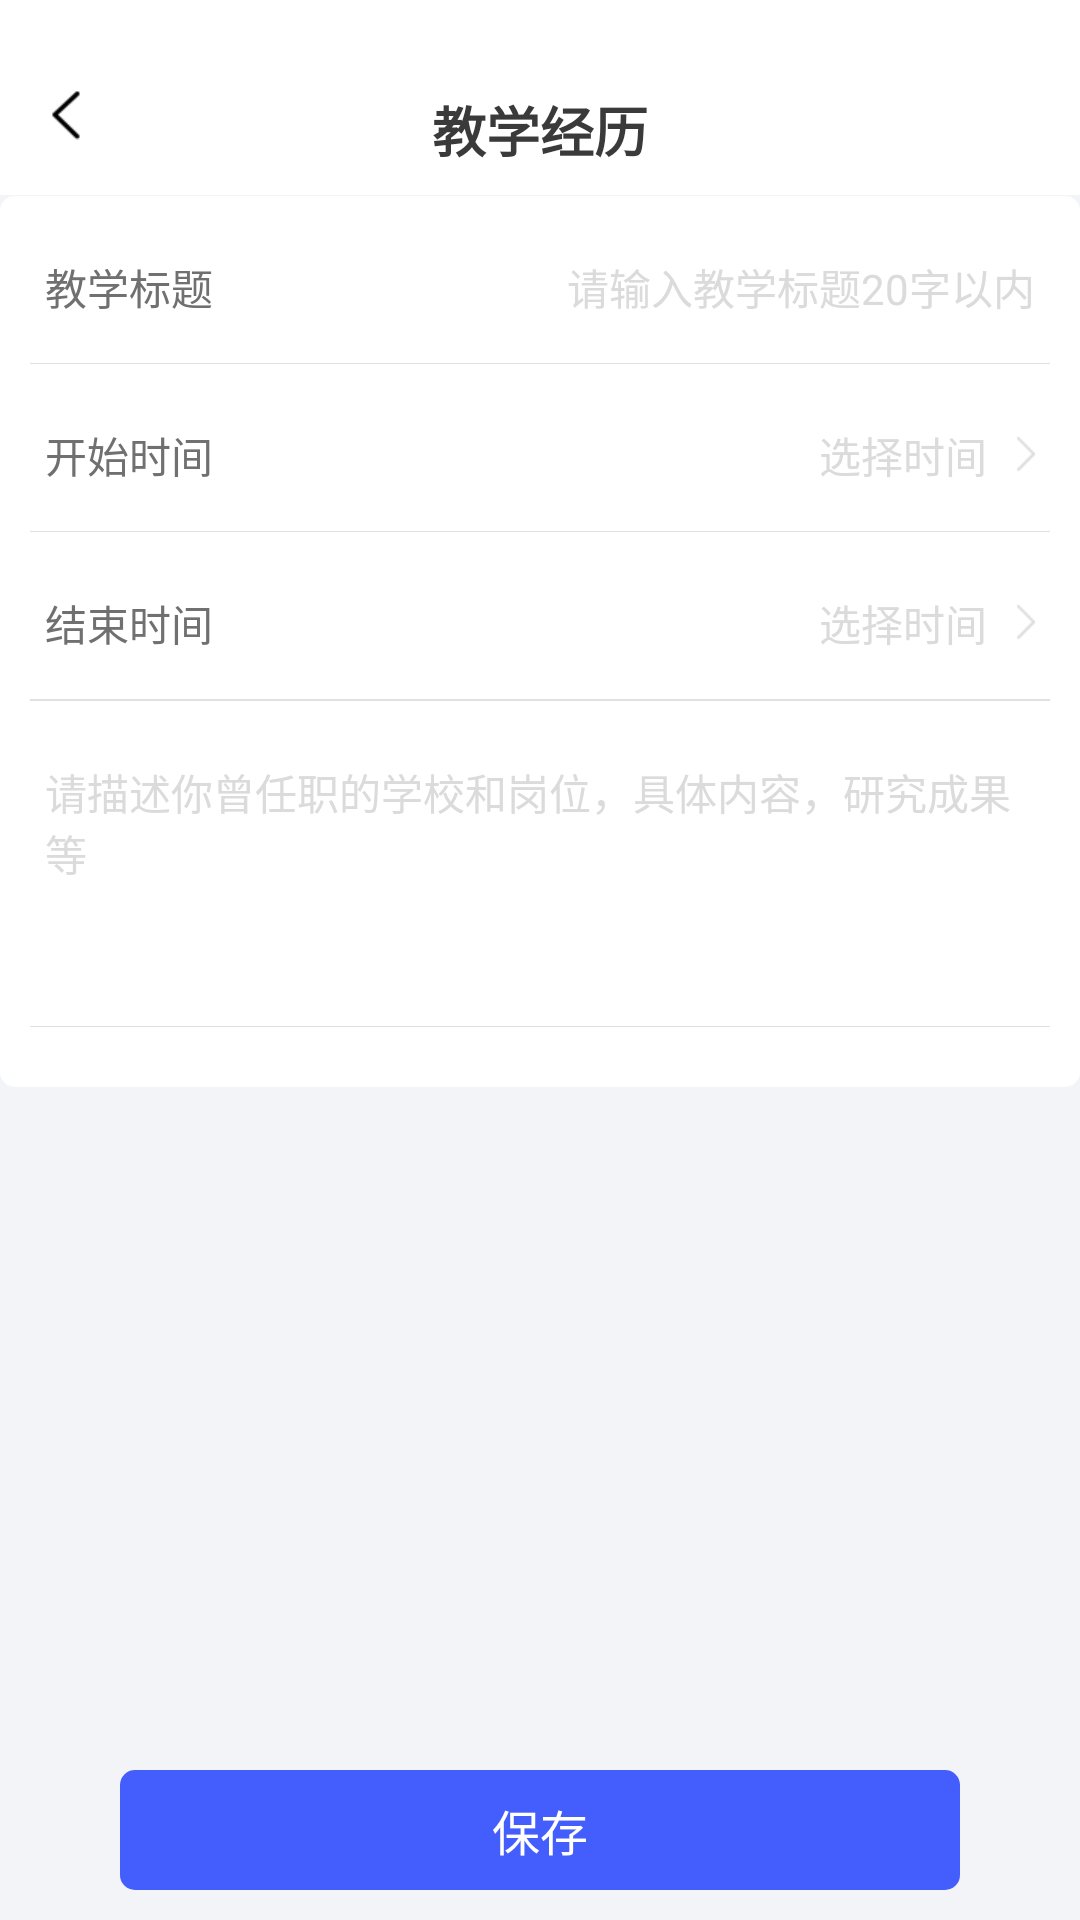

Named icons in this screenshot (1080 x 1920) and their centers, (x,y):
left: (66,115)
